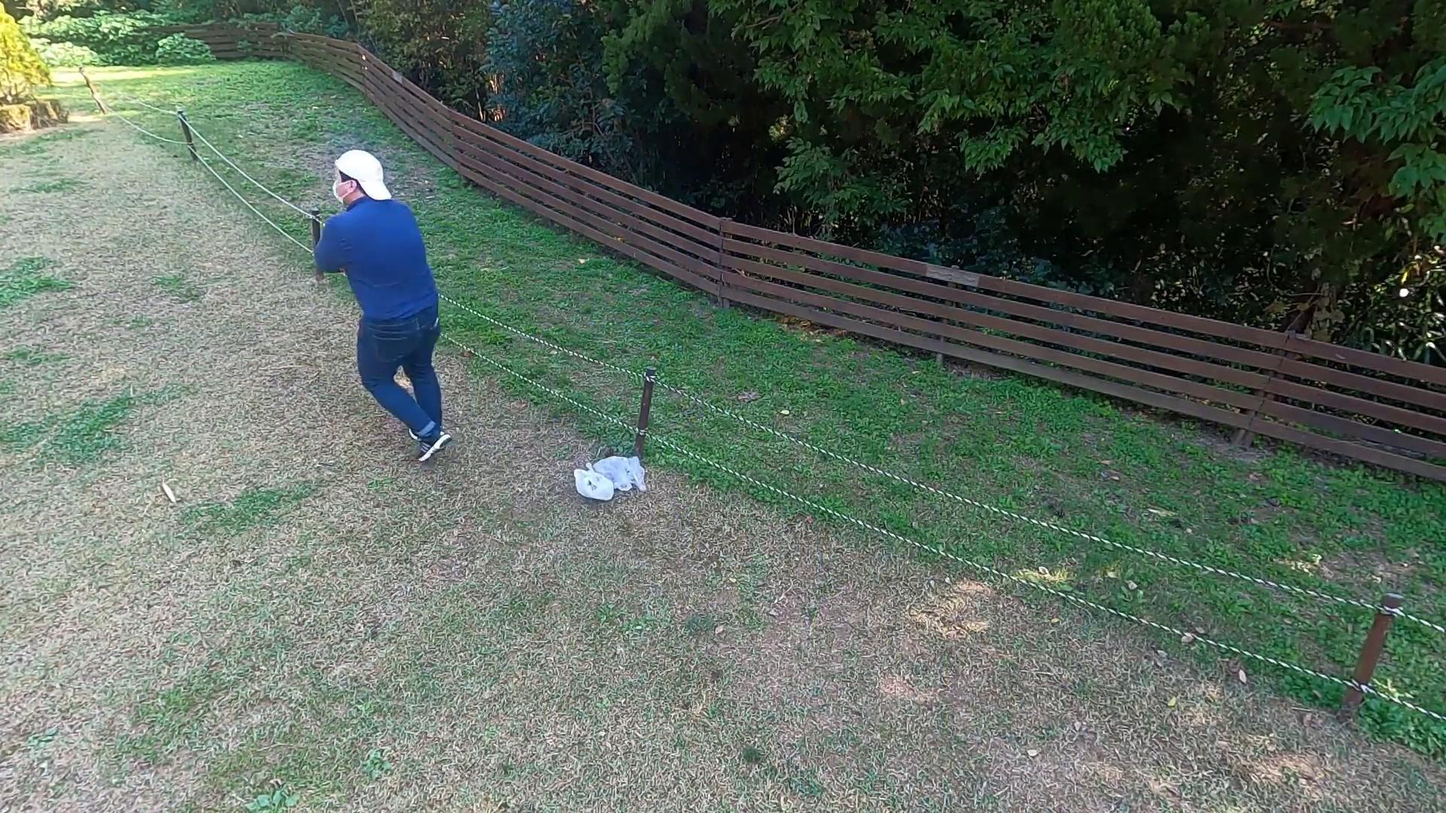person: (310, 150, 456, 461)
trash: (592, 453, 650, 497), (570, 460, 612, 506)
